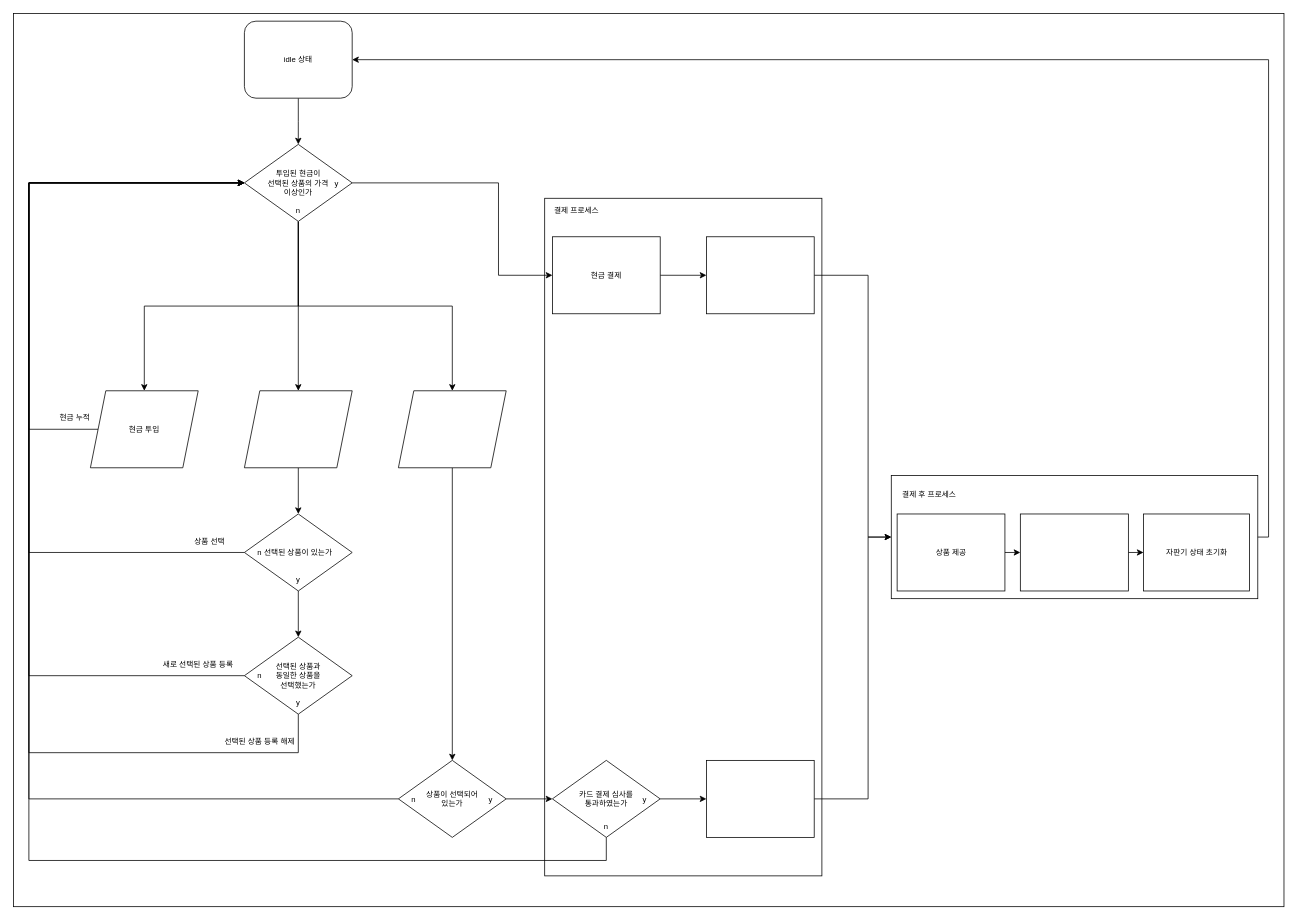
Image size: 1297x920. Some labels were removed from this diagram. The centre of each missing label's shape, as x and y in pixels:
"거스름돈 반환" goes at pixel 760 275.
"상품선택" goes at pixel 298 429.
"재고 차감" goes at pixel 1074 552.
"카드 결제 결제 시 투입된 현금이 있다면 현금 우선 사용 후 차액 카드 결제" goes at pixel 760 798.
"카드 투입" goes at pixel 452 429.
